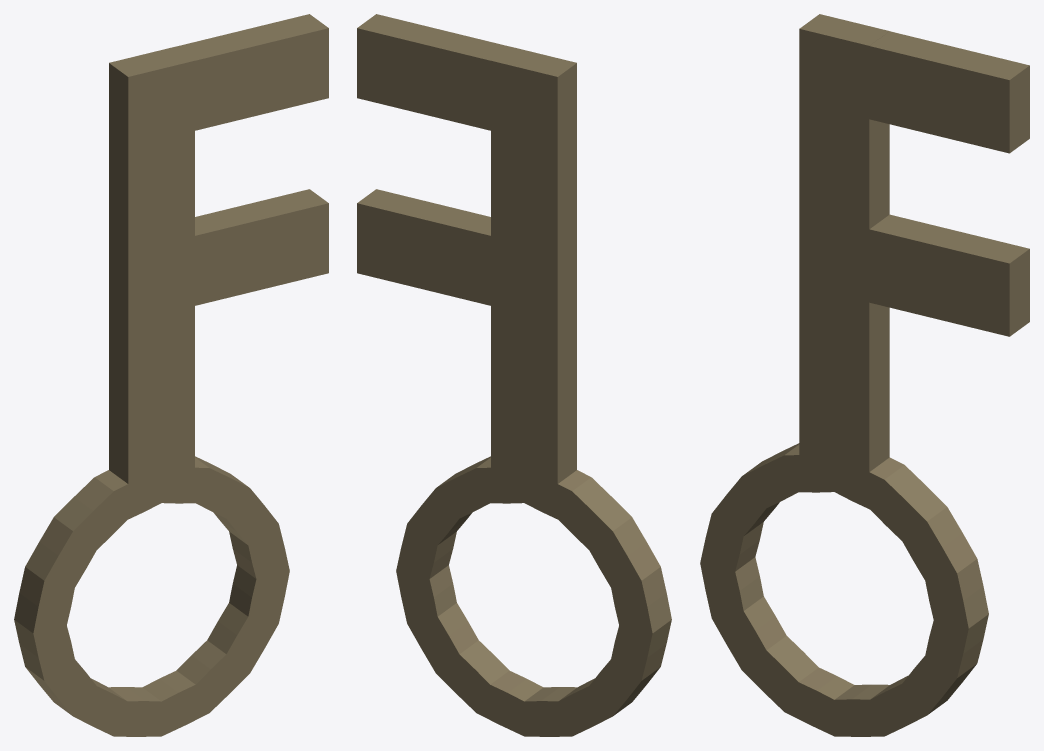
Rendered from Key.fbx.
3 views of the same model, side by side, from view 1: azimuth 30°, elevation 25°; view 2: azimuth 150°, elevation 25°; view 3: azimuth 330°, elevation 25° (orthographic). The views are drawn at different scales.
Visible parts, largest first — view 1: Key; view 2: Key; view 3: Key.
Boxes of the visible parts, x1,y1,x2,y2 form: Key: (14,14,328,736); Key: (357,14,671,736); Key: (700,14,1029,736).
Bounding box in the file's own units: 11.43 × 24.68 × 1.29.
